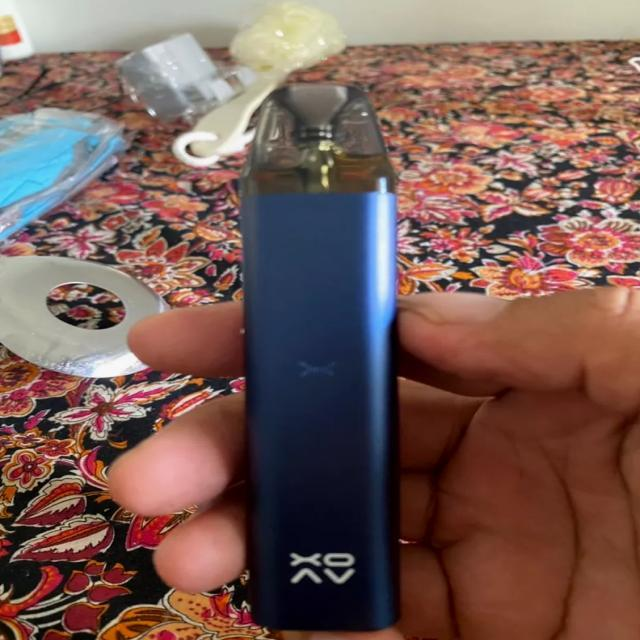Hazard: (242, 81, 404, 629)
